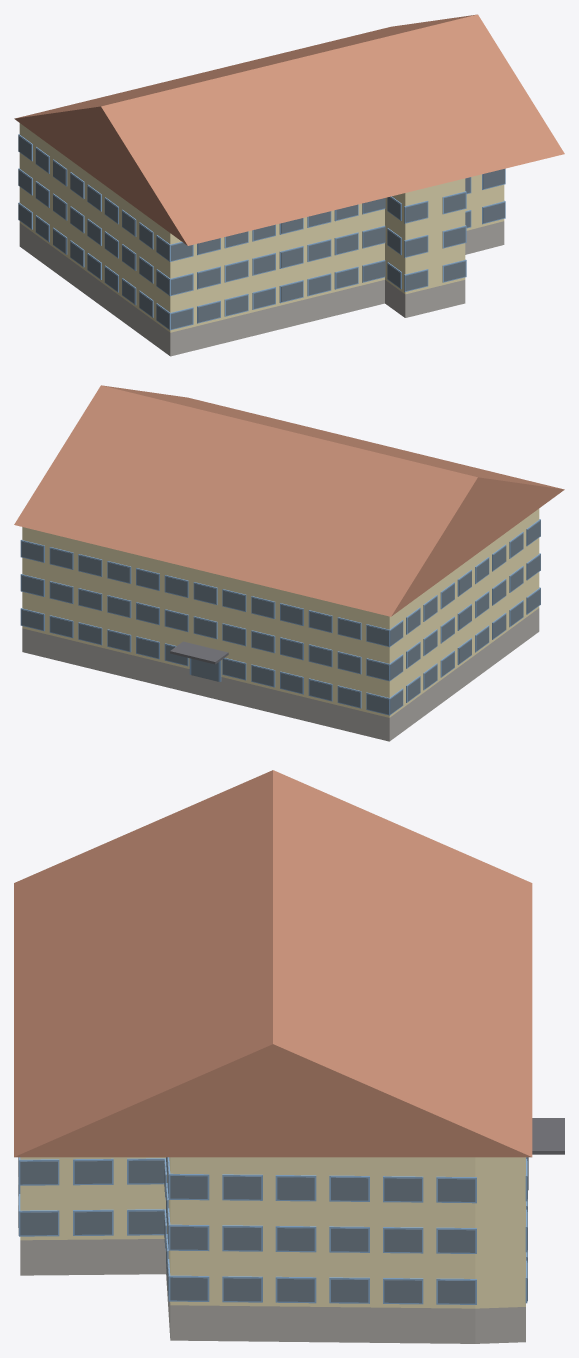
The model's file is kandern-bfa-3.glb.
3 views of the same model, one above another, from view 1: azimuth 30°, elevation 25°; view 2: azimuth 150°, elevation 25°; view 3: azimuth 270°, elevation 25° (orthographic). The views are drawn at different scales.
Parts seen in each view (by area): view 1: building; view 2: building; view 3: building.
Part boxes in pixels (left/top/right/bottom): building: left=14, top=14, right=564, bottom=356; building: left=14, top=385, right=564, bottom=741; building: left=14, top=770, right=564, bottom=1343.
Size of the model in its own units: 41.57 by 21.4 by 35.32.
